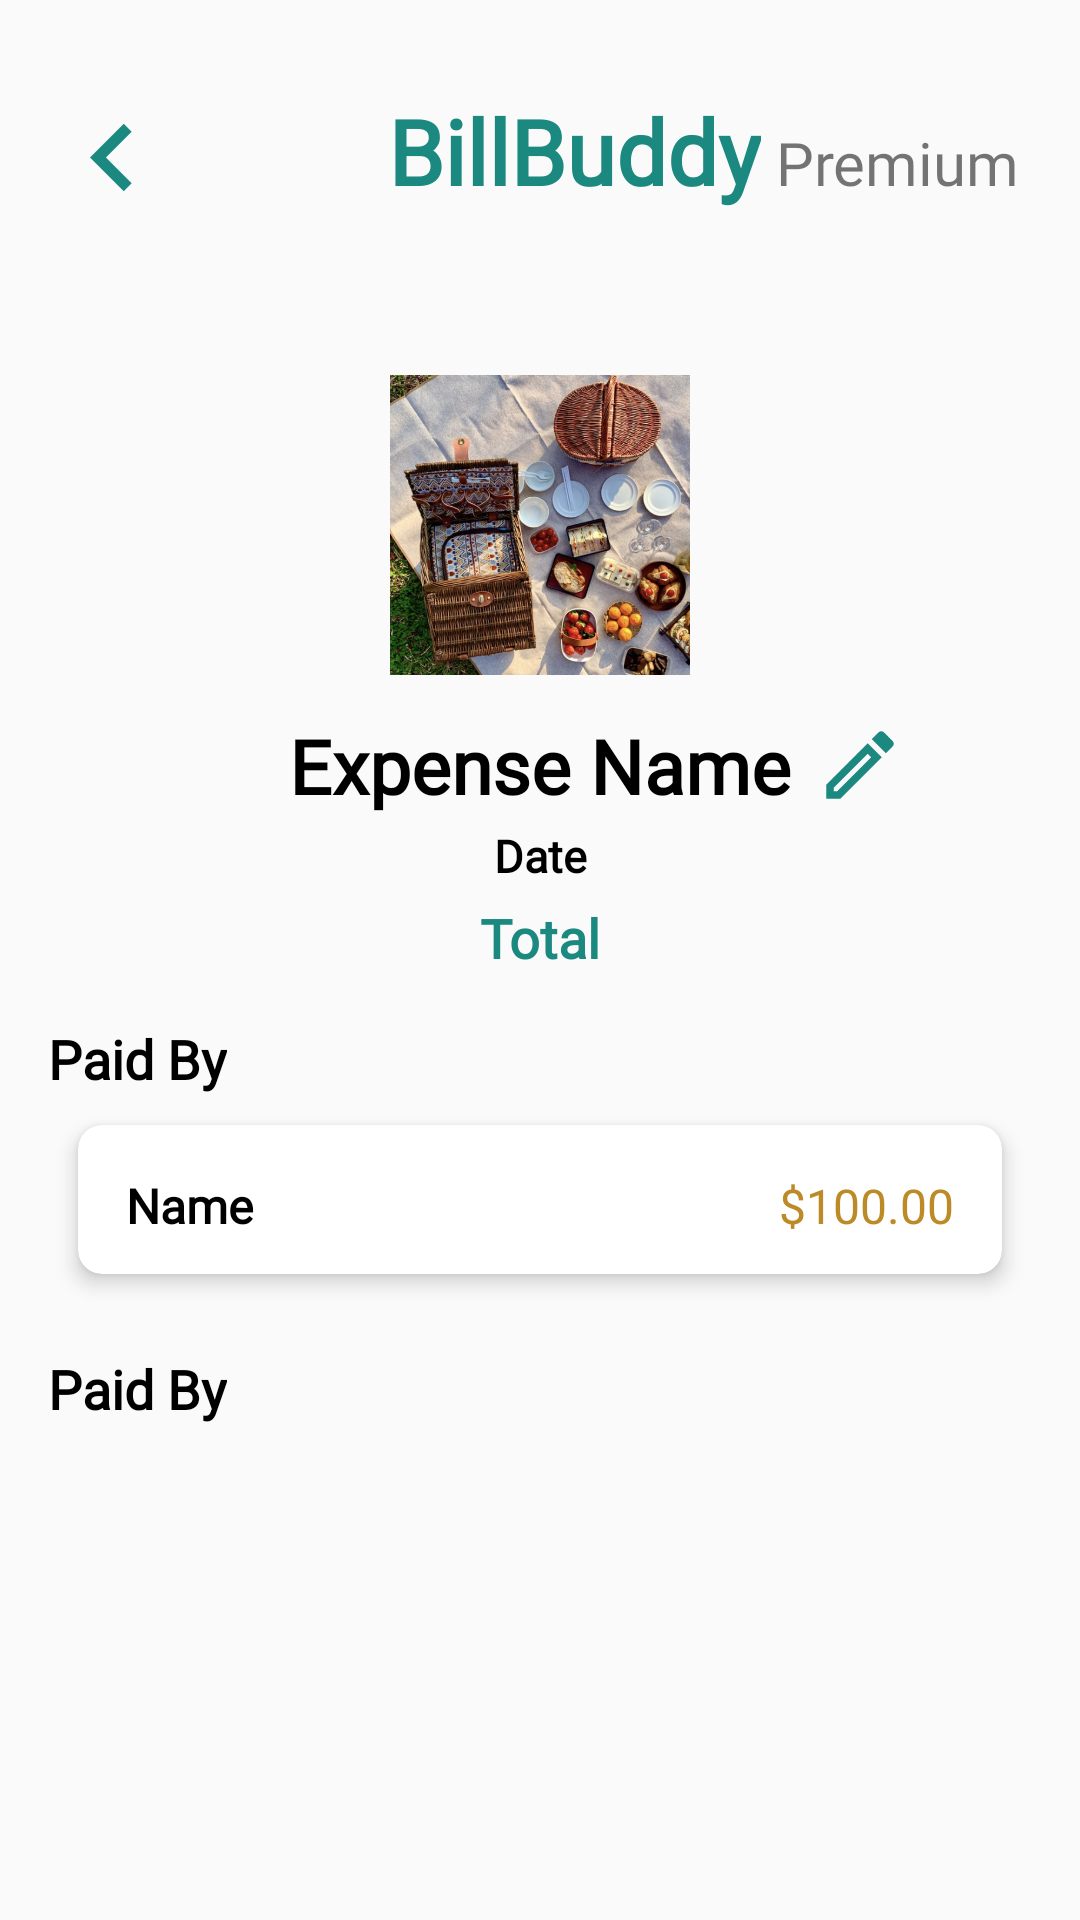

Icon click points for this 1080w x 1920h phone screenshot, format point (x, y):
Rename Button: point (860, 765)
Return Button: point (111, 157)
